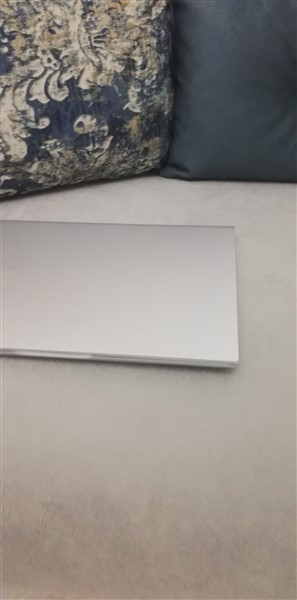laptop: (1, 216, 260, 368)
